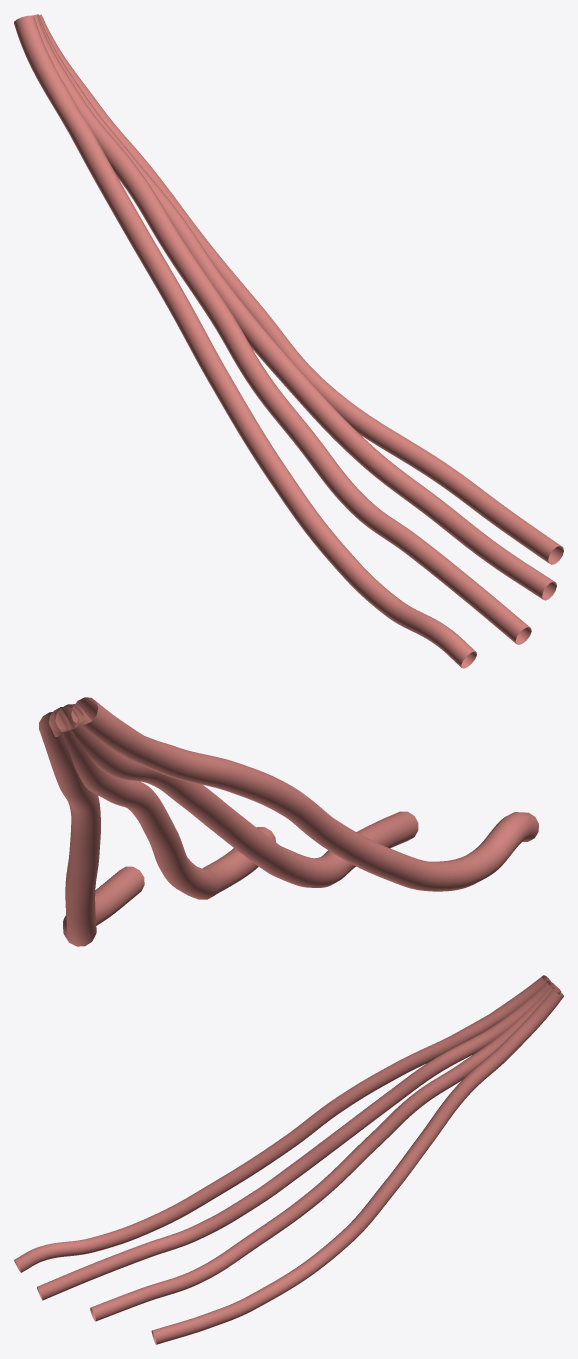
3 views of the same model, one above another, from view 1: azimuth 30°, elevation 25°; view 2: azimuth 150°, elevation 25°; view 3: azimuth 270°, elevation 25° (orthographic). The views are drawn at different scales.
Visible parts, largest first — view 1: ZA_73dd25f4efd3a902; view 2: ZA_73dd25f4efd3a902; view 3: ZA_73dd25f4efd3a902.
Boxes of the visible parts, x1,y1,x2,y2 form: ZA_73dd25f4efd3a902: [14, 14, 563, 668]; ZA_73dd25f4efd3a902: [39, 697, 538, 946]; ZA_73dd25f4efd3a902: [14, 975, 563, 1344].
Size of the model in its own units: 0.0571 by 0.0821 by 0.1445.
